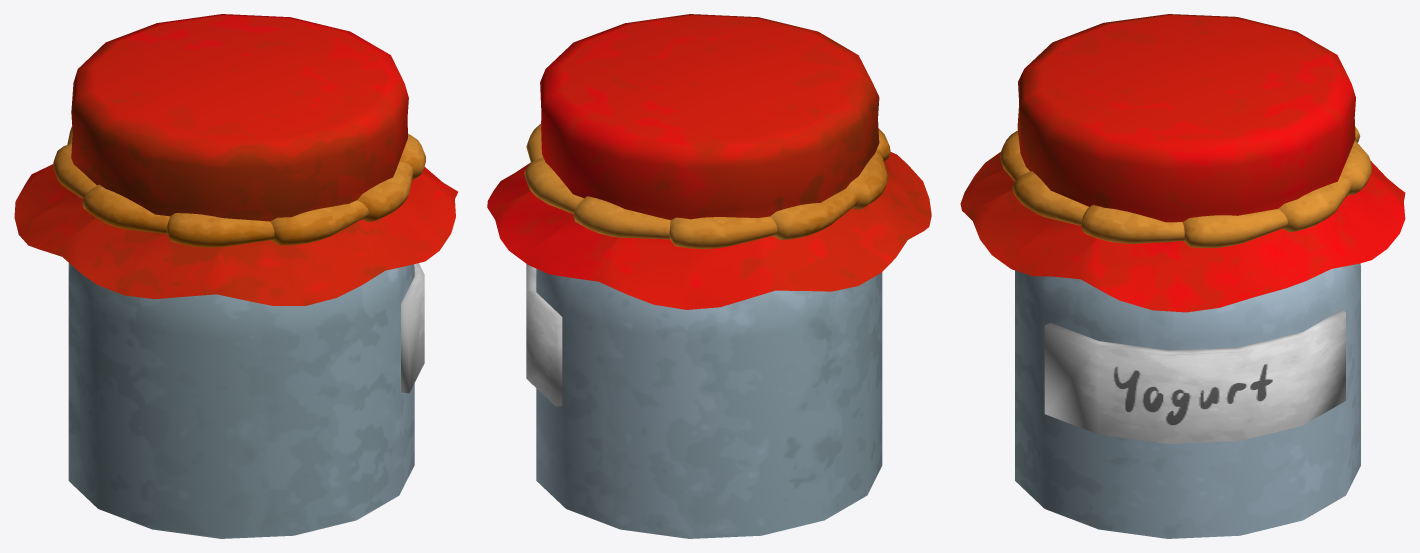
Rendered from yogurt.fbx.
3 renders of one model, left to right at view 1: azimuth 30°, elevation 25°; view 2: azimuth 150°, elevation 25°; view 3: azimuth 270°, elevation 25°, orthographic.
Visible parts, largest first — view 1: Circle; view 2: Circle; view 3: Circle.
Boxes of the visible parts, x1,y1,x2,y2 form: Circle: [14, 14, 457, 538]; Circle: [487, 14, 931, 538]; Circle: [960, 14, 1405, 538].
Size of the model in its own units: 28.17 by 27.03 by 28.14.
1 material, 1 textured.
